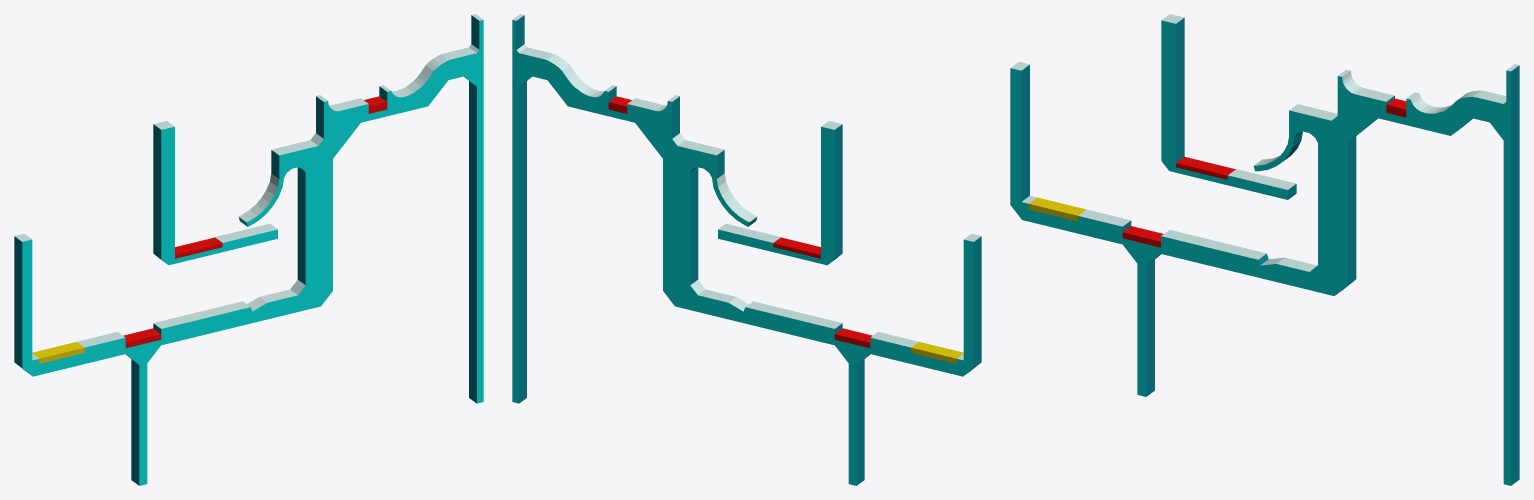
File: tutorial1_fbx1.fbx
3 renders of one model, left to right at view 1: azimuth 30°, elevation 25°; view 2: azimuth 150°, elevation 25°; view 3: azimuth 330°, elevation 25°, orthographic. The views are drawn at different scales.
Visible parts, largest first — view 1: tutorial1_1, tutoriall1_2, tutorial1_exit, tutorial1_lava2; view 2: tutorial1_1, tutoriall1_2, tutorial1_exit, tutorial1_lava2; view 3: tutorial1_1, tutoriall1_2, tutorial1_exit, tutorial1_lava2, tutorial1_lava3.
Part boxes in pixels (box(x1,y1,x2,y2)): tutorial1_1: box(14, 14, 483, 485); tutoriall1_2: box(153, 121, 277, 265); tutorial1_exit: box(32, 342, 84, 363); tutorial1_lava2: box(175, 237, 222, 258); tutorial1_1: box(512, 14, 981, 485); tutoriall1_2: box(718, 121, 842, 265); tutorial1_exit: box(911, 342, 963, 363); tutorial1_lava2: box(773, 237, 820, 258); tutorial1_1: box(1010, 62, 1519, 485); tutoriall1_2: box(1161, 14, 1296, 199); tutorial1_exit: box(1029, 197, 1086, 221); tutorial1_lava2: box(1176, 157, 1235, 179); tutorial1_lava3: box(1122, 226, 1163, 247).
Size of the model in its own units: 33.31 by 26.36 by 1.
